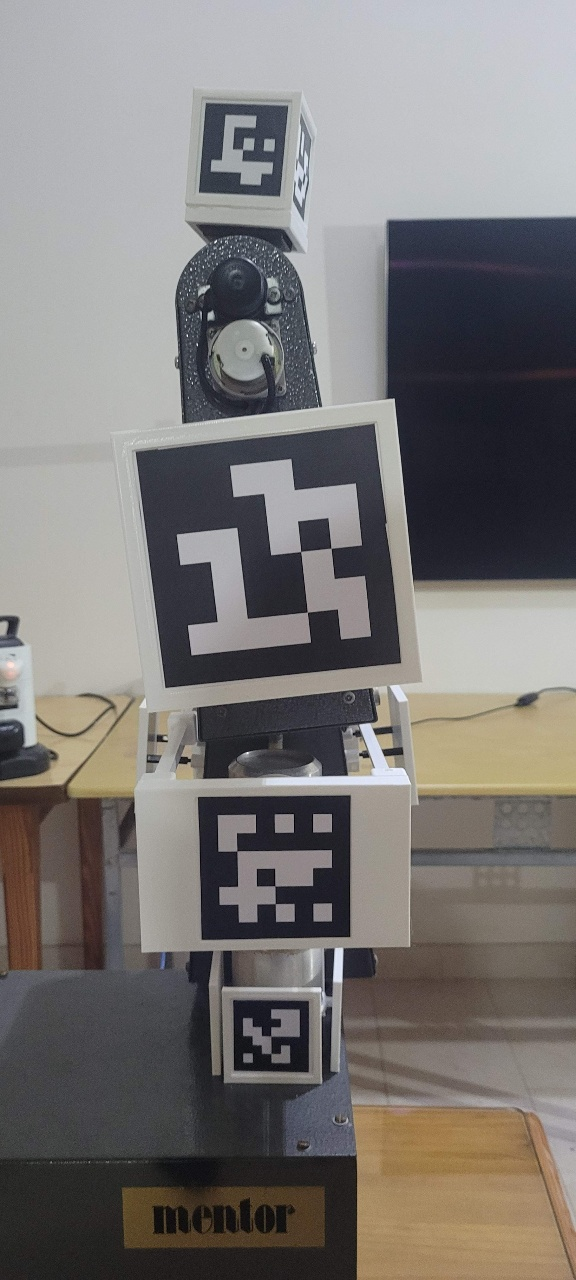Robot: (91, 176, 510, 985)
